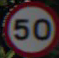Speed limit: (2, 2, 55, 52)
